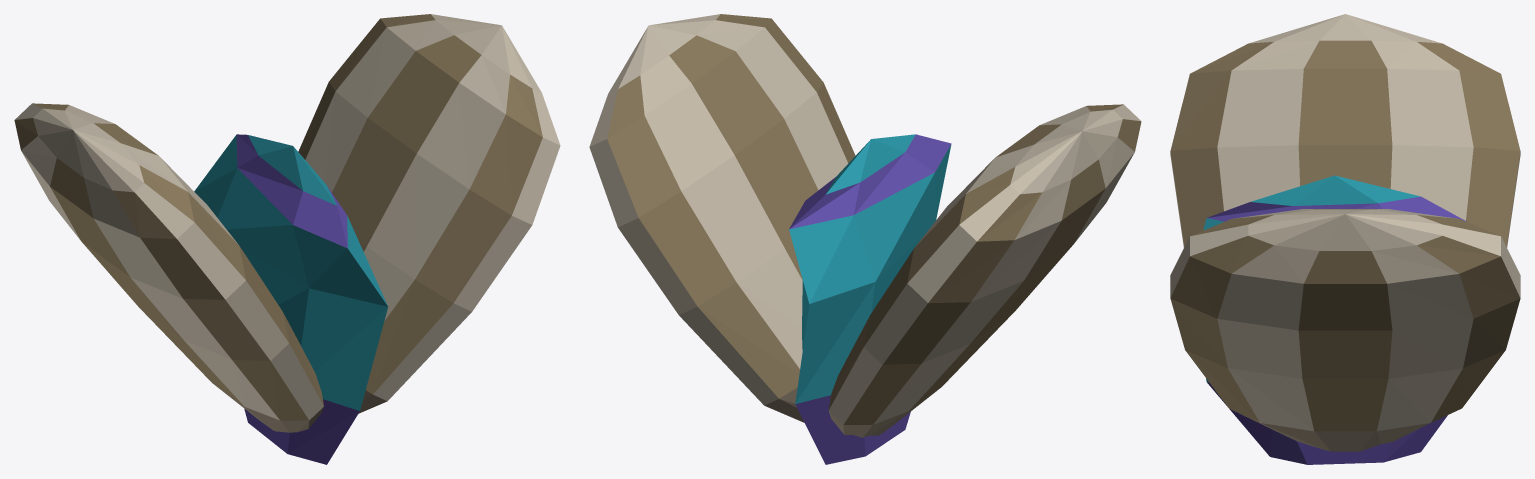
The model's file is sea_shell.gltf.
3 views of the same model, side by side, from view 1: azimuth 30°, elevation 25°; view 2: azimuth 150°, elevation 25°; view 3: azimuth 270°, elevation 25° (orthographic). The views are drawn at different scales.
Visible parts, largest first — view 1: sea_shell; view 2: sea_shell; view 3: sea_shell.
Boxes of the visible parts, left/top/right/bottom form: sea_shell: left=14, top=14, right=560, bottom=464; sea_shell: left=589, top=14, right=1141, bottom=464; sea_shell: left=1170, top=14, right=1520, bottom=464.
Size of the model in its own units: 0.381 by 0.3006 by 0.2782.
